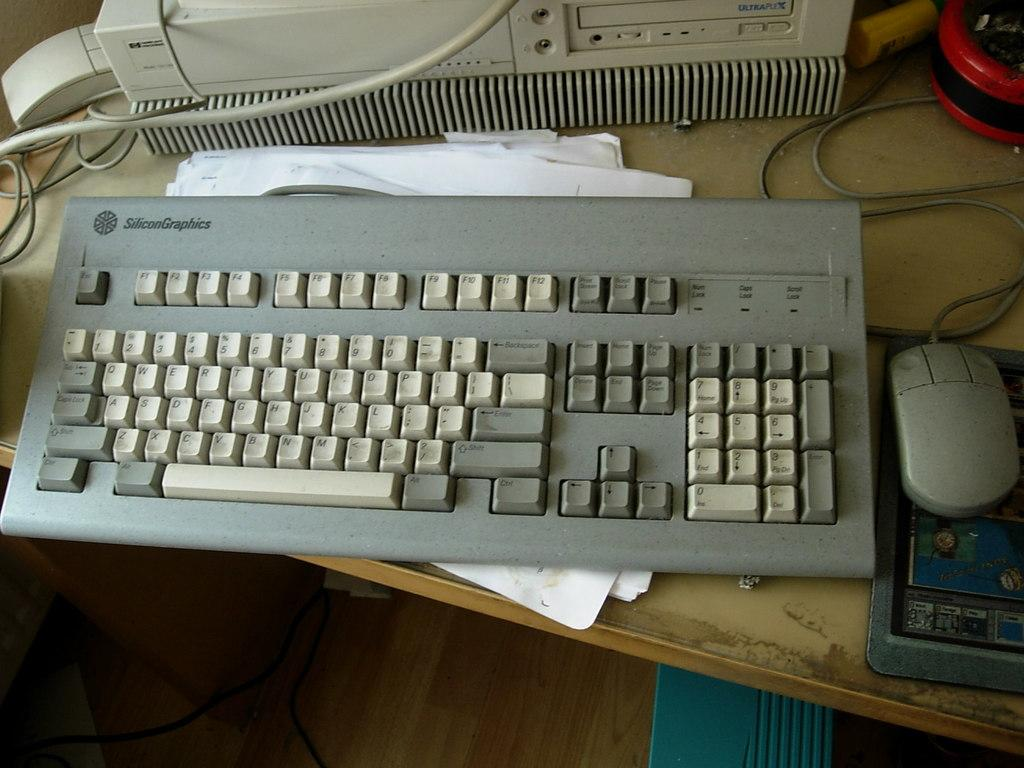Computer-mouse: (884, 332, 1021, 523)
